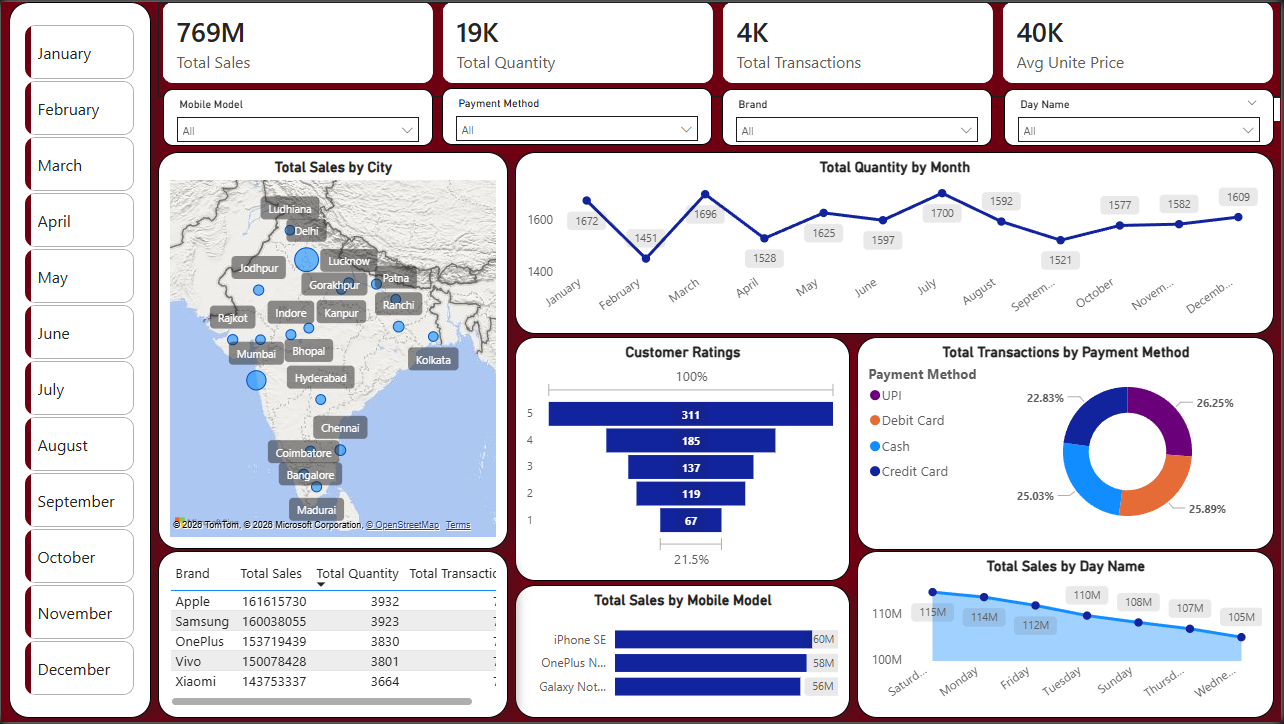

The dashboard page shown, as its layout file describes it:
{"tool":"powerbi","page":{"name":"Page 1Mobile Sales Dashboard","canvas":[1280,720],"ordinal":0},"visuals":[{"type":"shape","box":[8,0,142,716],"z":0},{"type":"advancedSlicerVisual","fields":{"Values":["Sales_Data.Date.Variation.Date Hierarchy.Month"]},"box":[19,18,119,687],"z":1000},{"type":"cardVisual","fields":{"Data":["Sales_Data.Total Sales","Sales_Data.Total Quantity","Sales_Data.Total Transactions","Sales_Data.Avg Unite Price"]},"box":[156.8,0,1123.2,95.1],"z":2000},{"type":"map","fields":{"Category":["Sales_Data.City"],"Size":["Sales_Data.Total Sales"]},"box":[156.8,149.8,350.1,397.7],"z":3000},{"type":"lineChart","fields":{"Y":["Sales_Data.Total Quantity"],"Category":["Sales_Data.Date.Variation.Date Hierarchy.Month","Sales_Data.Date.Variation.Date Hierarchy.Day"]},"box":[514,150,759,182],"z":4000},{"type":"clusteredBarChart","fields":{"Category":["Sales_Data.Mobile Model"],"Y":["Sales_Data.Total Sales"]},"box":[514,583,335,133],"z":5000},{"type":"donutChart","fields":{"Category":["Sales_Data.Payment Method"],"Y":["Sales_Data.Total Transactions"]},"box":[856,335,417,213],"z":6000},{"type":"funnel","title":"Customer Ratings","fields":{"Category":["Sales_Data.Customer Ratings"],"Y":["CountNonNull(Sales_Data.Customer Ratings)"]},"box":[514,334.9,334.9,243.9],"z":7000},{"type":"areaChart","fields":{"Category":["Sales_Data.Day Name"],"Y":["Sales_Data.Total Sales"]},"box":[856,549,417,167],"z":8000},{"type":"tableEx","fields":{"Values":["Sales_Data.Brand","Sales_Data.Total Sales","Sales_Data.Total Quantity","Sales_Data.Total Transactions"]},"box":[156.8,549.4,350.1,167],"z":9000},{"type":"slicer","fields":{"Values":["Sales_Data.Mobile Model"]},"box":[161.5,86.9,270.8,56.9],"z":10000},{"type":"slicer","fields":{"Values":["Sales_Data.Payment Method"]},"box":[441,86,270,57],"z":11000},{"type":"slicer","fields":{"Values":["Sales_Data.Brand"]},"box":[721,87,270,57],"z":12000},{"type":"slicer","fields":{"Values":["Sales_Data.Day Name"]},"box":[1003,87,270,57],"z":12001}]}

Visuals, with their boxes in screenshot pixels (x1, y1, x2, y2), scaled from the page's 1280x720 canvas onto the 1284x724 screenshot:
shape: pyautogui.locateOnScreen(8, 0, 150, 720)
advancedSlicerVisual - Sales_Data.Date.Variation.Date Hierarchy.Month: pyautogui.locateOnScreen(19, 18, 138, 709)
cardVisual - Sales_Data.Total Sales x Sales_Data.Total Quantity: pyautogui.locateOnScreen(157, 0, 1283, 96)
map - Sales_Data.City x Sales_Data.Total Sales: pyautogui.locateOnScreen(157, 151, 508, 551)
lineChart - Sales_Data.Total Quantity x Sales_Data.Date.Variation.Date Hierarchy.Month: pyautogui.locateOnScreen(516, 151, 1277, 334)
clusteredBarChart - Sales_Data.Mobile Model x Sales_Data.Total Sales: pyautogui.locateOnScreen(516, 586, 852, 720)
donutChart - Sales_Data.Payment Method x Sales_Data.Total Transactions: pyautogui.locateOnScreen(859, 337, 1277, 551)
"Customer Ratings" funnel: pyautogui.locateOnScreen(516, 337, 852, 582)
areaChart - Sales_Data.Day Name x Sales_Data.Total Sales: pyautogui.locateOnScreen(859, 552, 1277, 720)
tableEx - Sales_Data.Brand x Sales_Data.Total Sales: pyautogui.locateOnScreen(157, 552, 508, 720)
slicer - Sales_Data.Mobile Model: pyautogui.locateOnScreen(162, 87, 434, 145)
slicer - Sales_Data.Payment Method: pyautogui.locateOnScreen(442, 86, 713, 144)
slicer - Sales_Data.Brand: pyautogui.locateOnScreen(723, 87, 994, 145)
slicer - Sales_Data.Day Name: pyautogui.locateOnScreen(1006, 87, 1277, 145)
